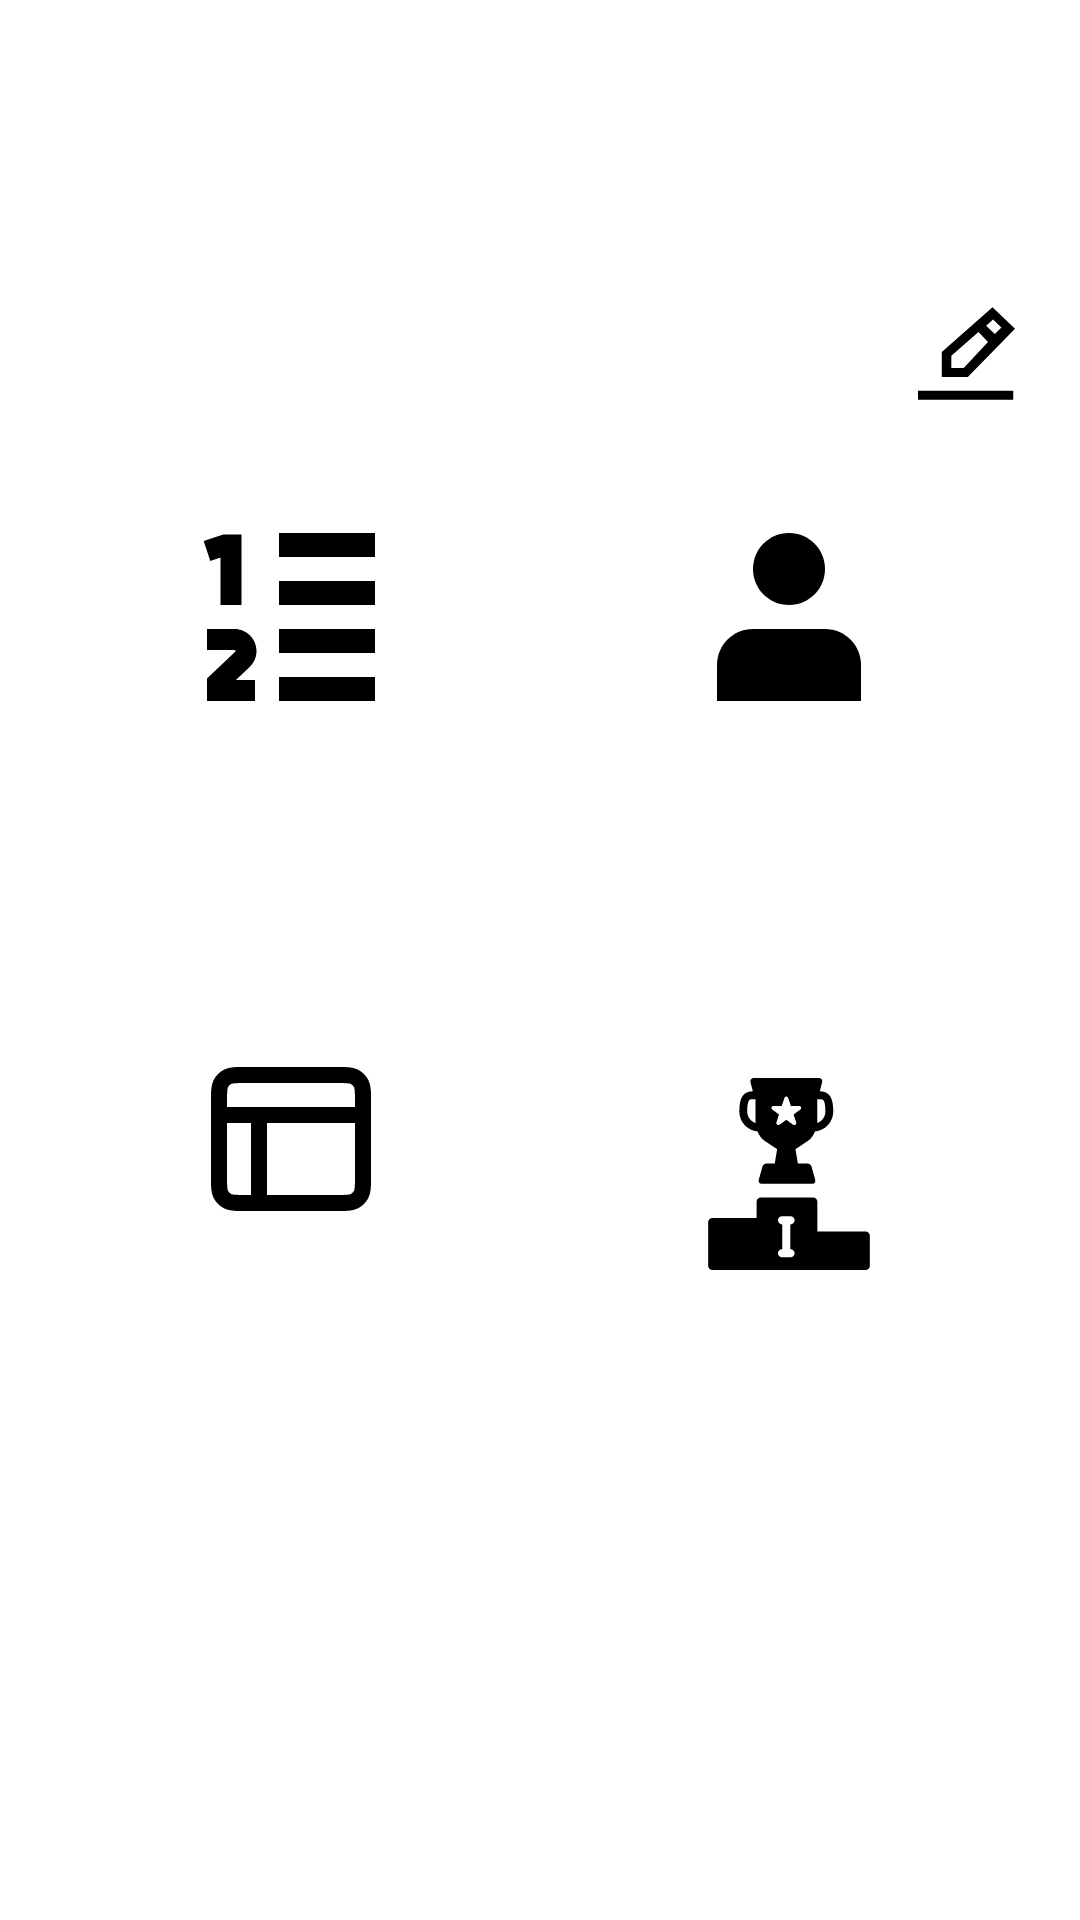

Where icons sit on this 1080*1920 app screen, as detection(x1, y1, x2, y2):
Editar título del torneo: detection(918, 307, 1015, 400)
